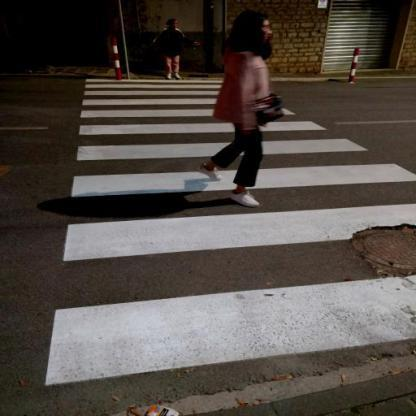crosswalk: (29, 197, 414, 395), (57, 118, 374, 167)
